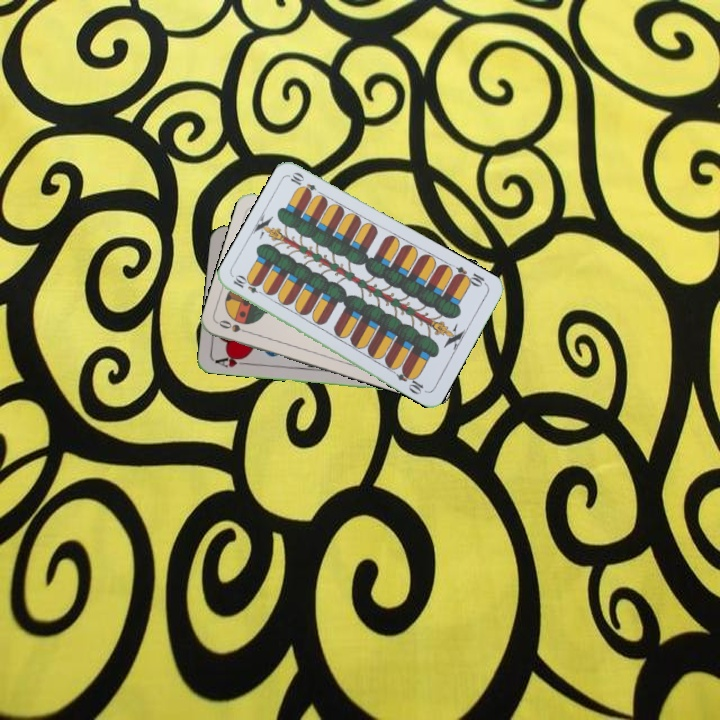E10: (450, 262, 490, 290), (229, 272, 268, 298)
HA: (211, 351, 252, 370)
SO: (215, 316, 254, 337)
